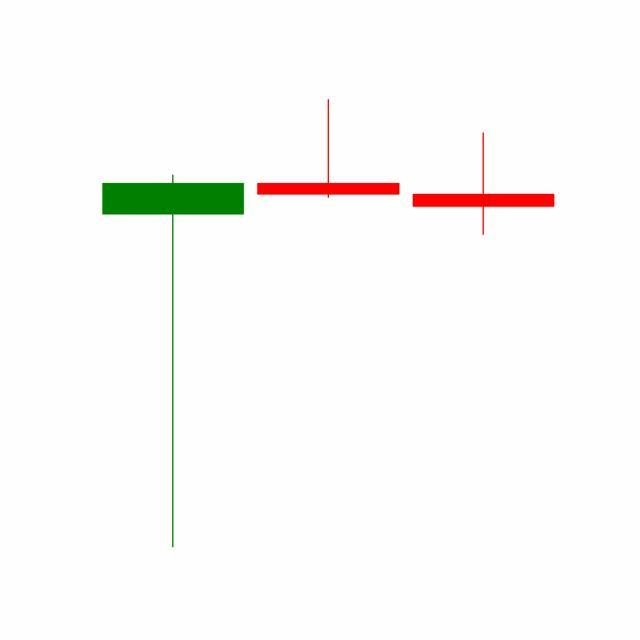Gravestone Doji: (250, 98, 407, 201)
